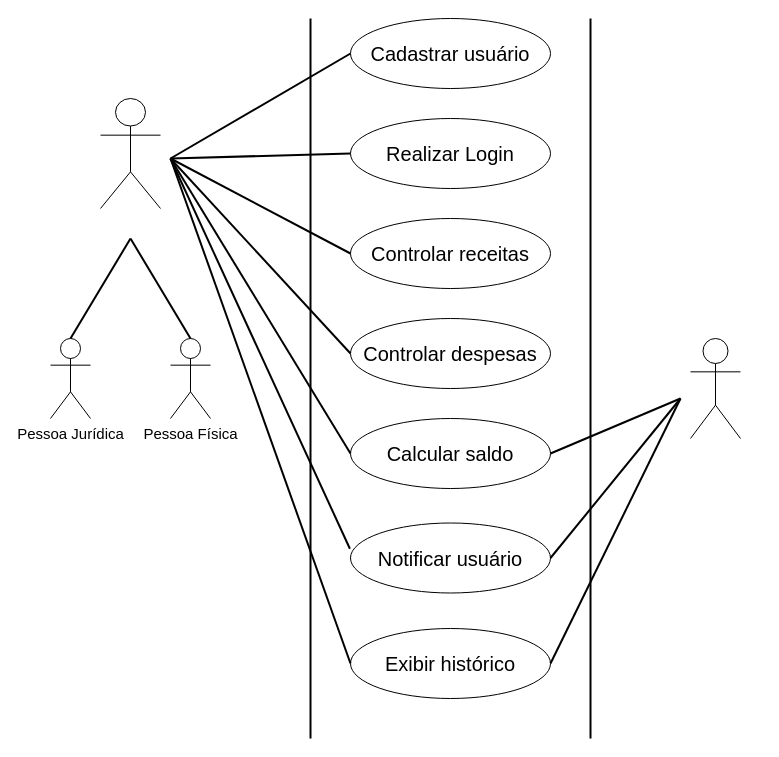
Image size: 779x757. Some labels were removed from this diagram. The centre of each missing label's shape, as x and y in pixels:
"Administrador" goes at pixel 715 388.
"Usuário" goes at pixel 130 153.
